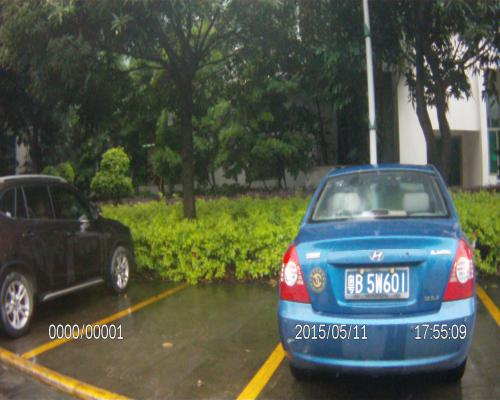Carplate: (343, 265, 411, 300)
